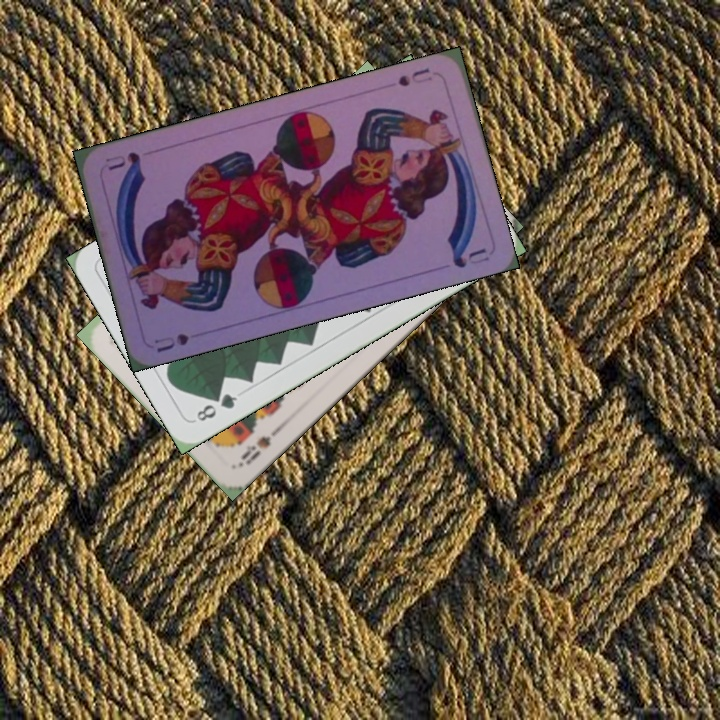G8: (192, 389, 240, 424)
S8: (234, 424, 281, 470)
SU: (150, 329, 192, 355), (394, 64, 435, 89)
